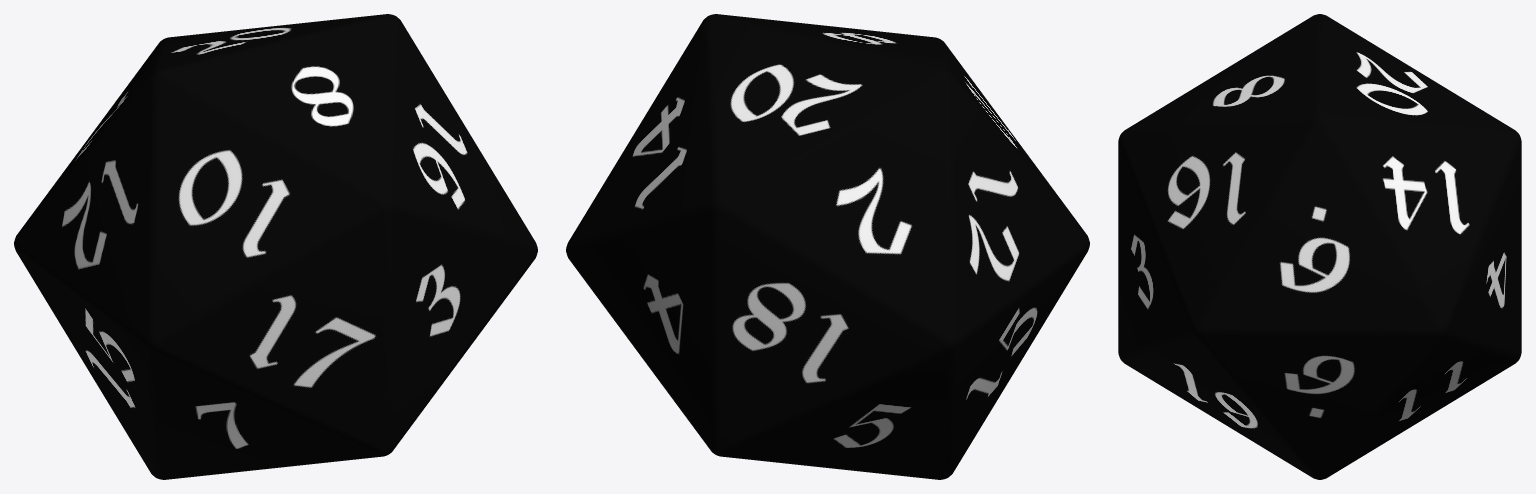
The model's file is d20_black.glb.
The picture shows the model from 3 angles, left to right: view 1: azimuth 30°, elevation 25°; view 2: azimuth 150°, elevation 25°; view 3: azimuth 270°, elevation 25°; orthographic projection. The views are drawn at different scales.
Parts seen in each view (by area): view 1: D20; view 2: D20; view 3: D20.
Boxes of the visible parts, x1=… form: D20: x1=14, y1=14, x2=537, y2=479; D20: x1=566, y1=14, x2=1089, y2=479; D20: x1=1118, y1=14, x2=1521, y2=479.
Bounding box in the file's own units: 169 × 169 × 169.
1 material, 1 textured.
